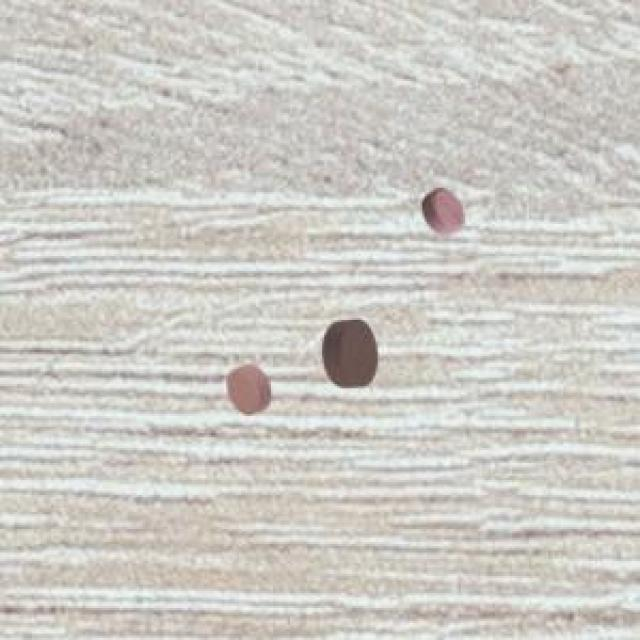Kremil_S: (316, 308, 386, 396), (214, 352, 281, 422), (416, 176, 469, 242)
